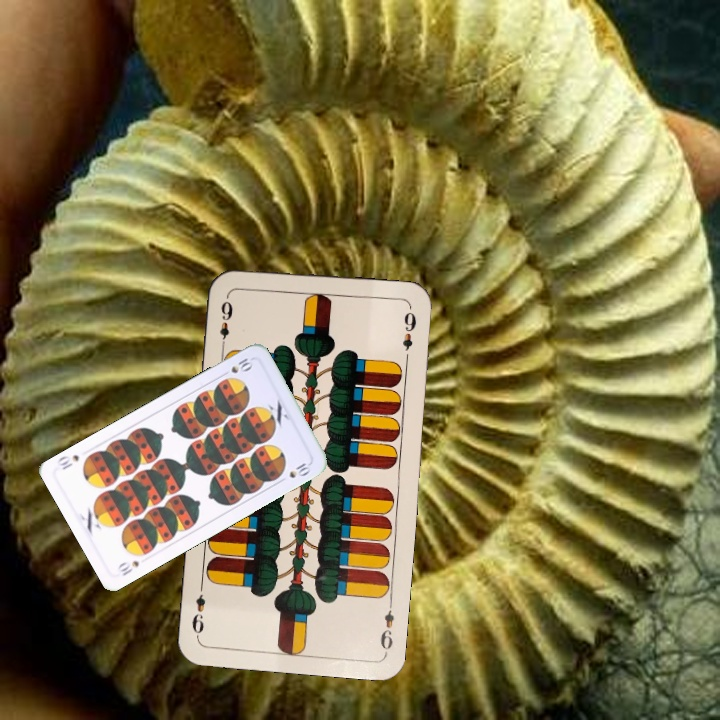E9: (376, 596, 397, 655), (216, 291, 235, 350)
S10: (218, 354, 256, 379), (113, 556, 142, 578)
